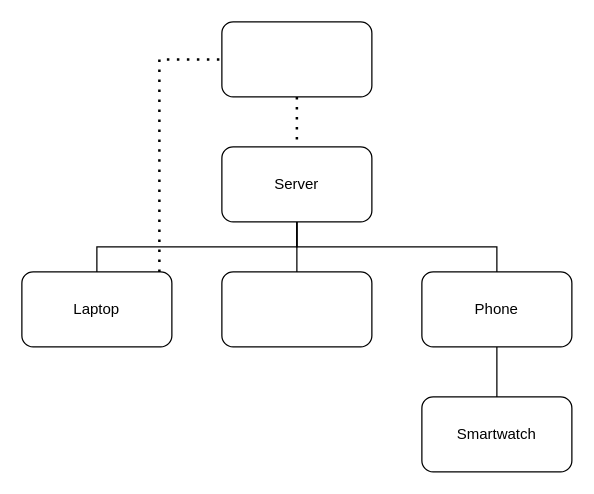
This 594x494 diagram has some shape labels left out. The centre of each missing label's shape, as x and y in pixels:
Backup Server: (x=296, y=59)
Tablet: (x=296, y=309)
